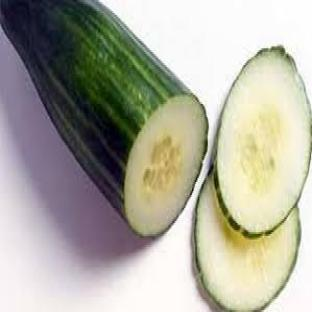Cucumber: (214, 47, 310, 235), (196, 175, 300, 311)
